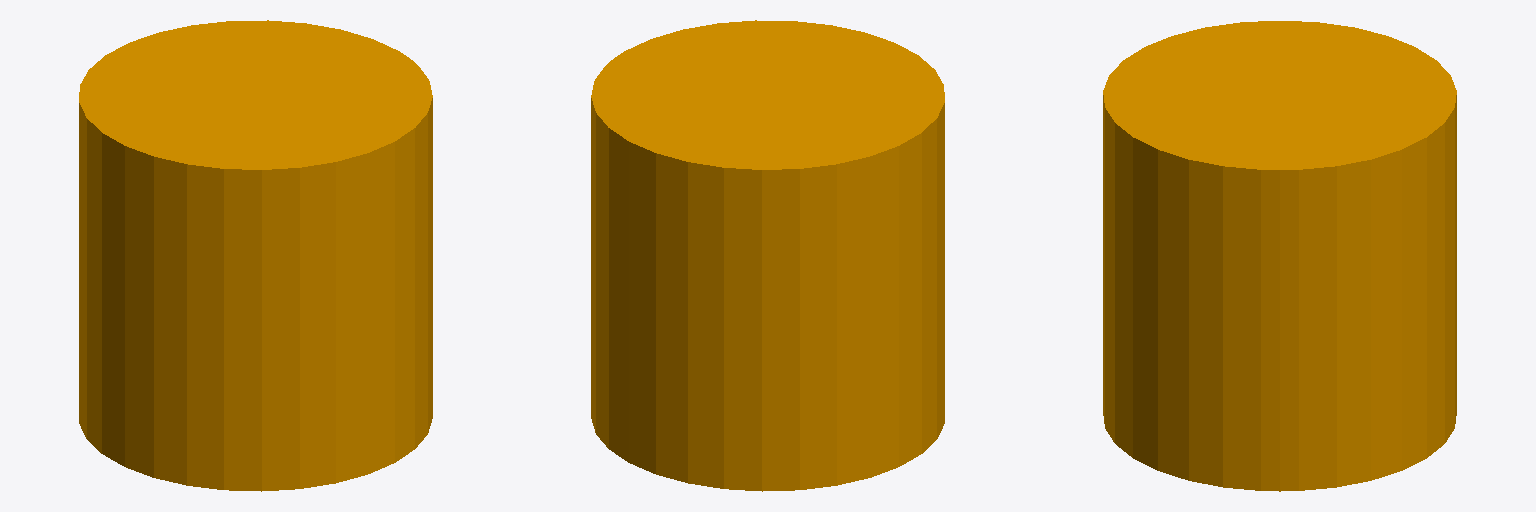
URDF robot description (object_small_8_cyl):
<?xml version='1.0'?>

<robot name="object_small_8_cyl">
    <static>false</static>
    <link name="baseLink">
        <inertial>
            <mass value="0.1"/>
            <inertia ixx="1e-4" ixy="0." ixz="0." iyy="1e-4" iyz="0." izz="1e-4"/>
        </inertial>
        <collision name="collision">
            <geometry>
                <mesh filename="small_8_cyl.stl"/>
            </geometry>
        </collision>
        <visual name="visual">
            <geometry>
                <mesh filename="small_8_cyl_simple.stl"/>
            </geometry>
        </visual>
    </link>
</robot>

--- Render facts (derived) ---
Views: 3 orthographic renders of the robot side by side, from view 1: azimuth 30°, elevation 25°; view 2: azimuth 150°, elevation 25°; view 3: azimuth 270°, elevation 25°.
Robot: object_small_8_cyl — 1 links, 0 joints (none); root link baseLink; default pose: every joint at zero.
Links seen in each view (by area): view 1: baseLink; view 2: baseLink; view 3: baseLink.
Boxes of the visible links, x1,y1,x2,y2 form: baseLink: (79,20,432,491); baseLink: (591,20,944,491); baseLink: (1103,21,1456,491).
Size in the robot's own frame: 0.04 by 0.0399 by 0.04 metres.
Meshes: 1 distinct files referenced, 1 mesh visuals loaded (1 binary STL).
